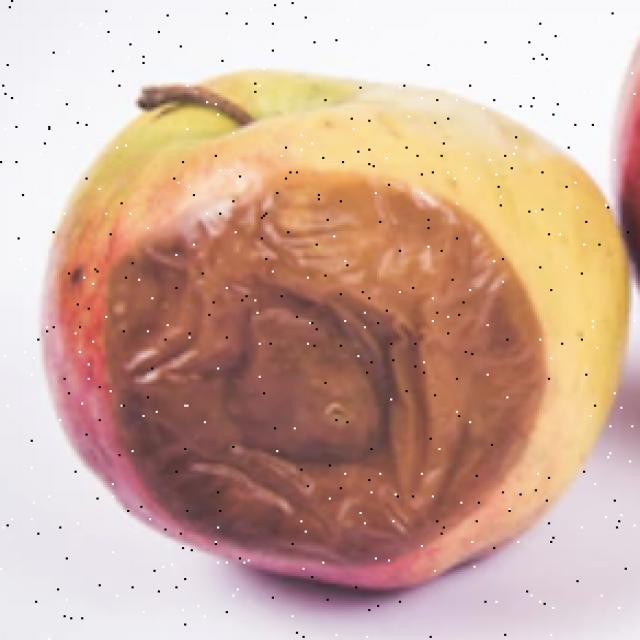Rotten: (43, 78, 640, 601)
